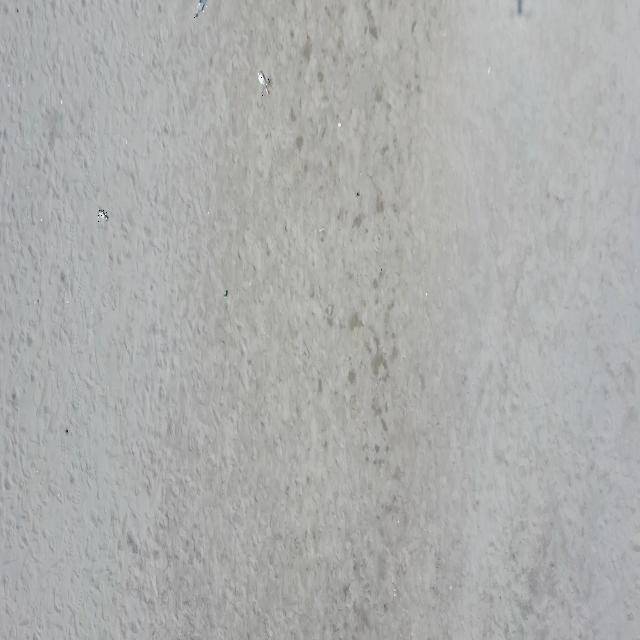glass: (257, 71, 270, 96), (194, 0, 207, 19), (98, 210, 108, 223), (224, 291, 227, 299)
